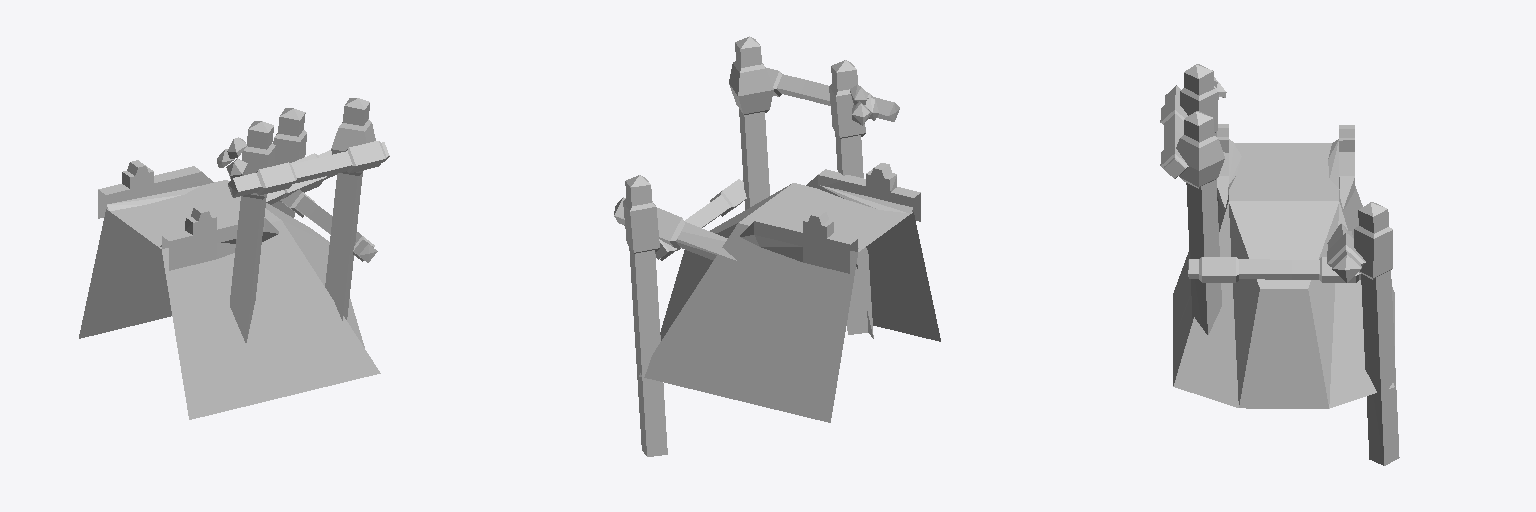
Rendered from templeToPlankCapBHorz_prefab.obj.
3 renders of one model, left to right at view 1: azimuth 30°, elevation 25°; view 2: azimuth 150°, elevation 25°; view 3: azimuth 270°, elevation 25°, orthographic.
Parts seen in each view (by area): view 1: Object74-Pivot; view 2: Object74-Pivot; view 3: Object74-Pivot.
Part boxes in pixels (x1,y1,x2,y2): Object74-Pivot: (79,98,389,419); Object74-Pivot: (614,36,940,456); Object74-Pivot: (1160,64,1399,465).
Bounding box in the file's own units: 50.1 × 69.39 × 43.19.